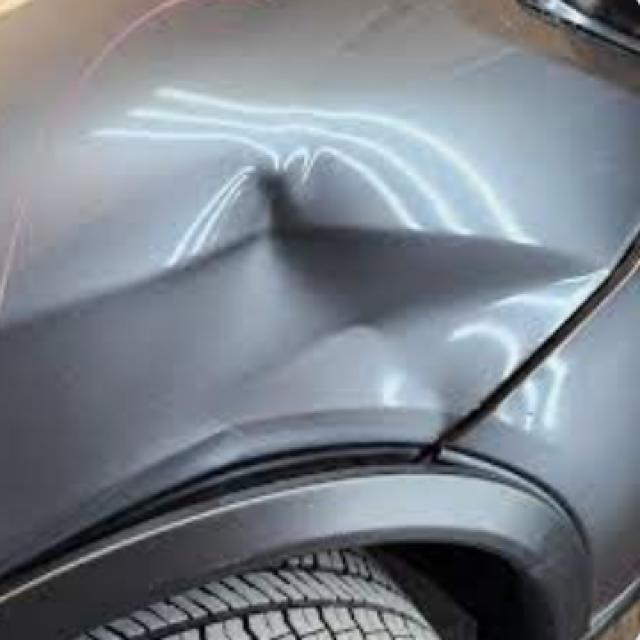dents: (172, 161, 606, 458)
